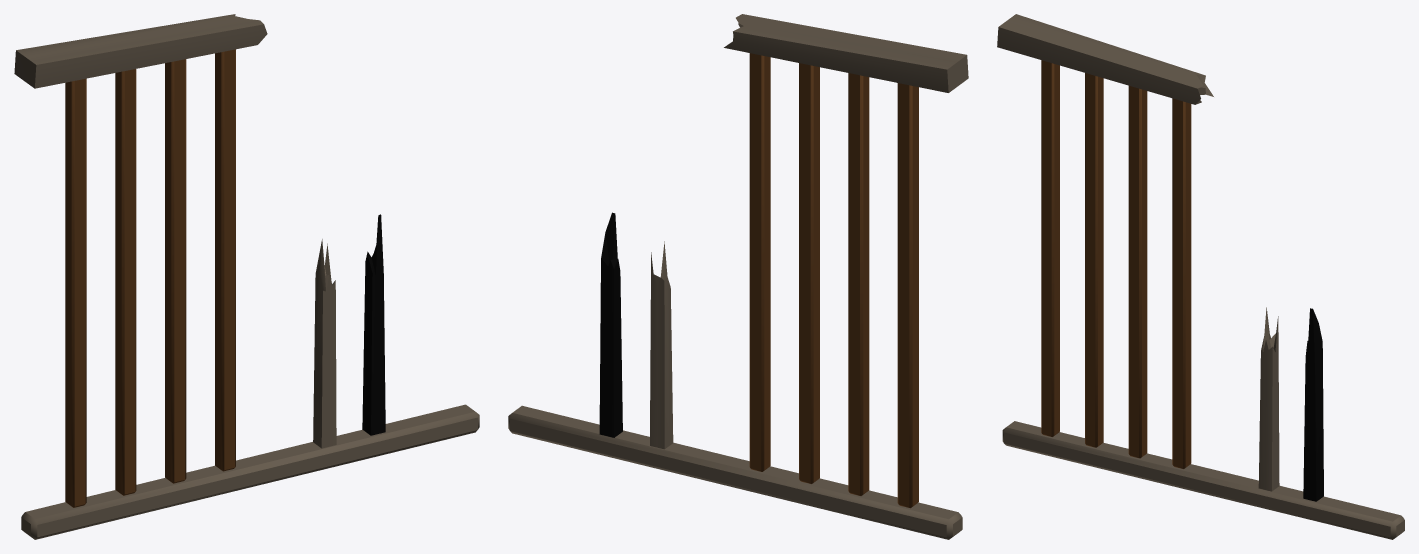
File: gelaender_1m_kaputt.glb
The picture shows the model from 3 angles, left to right: view 1: azimuth 30°, elevation 25°; view 2: azimuth 150°, elevation 25°; view 3: azimuth 330°, elevation 25°; orthographic projection. The views are drawn at different scales.
Parts seen in each view (by area): view 1: gelaender_1m_kaputt; view 2: gelaender_1m_kaputt; view 3: gelaender_1m_kaputt.
Part boxes in pixels (<box>): gelaender_1m_kaputt: <box>14,14,479,539</box>; gelaender_1m_kaputt: <box>508,14,968,539</box>; gelaender_1m_kaputt: <box>997,14,1404,539</box>.
Bounding box in the file's own units: 0.9026 × 0.9196 × 0.0719.
